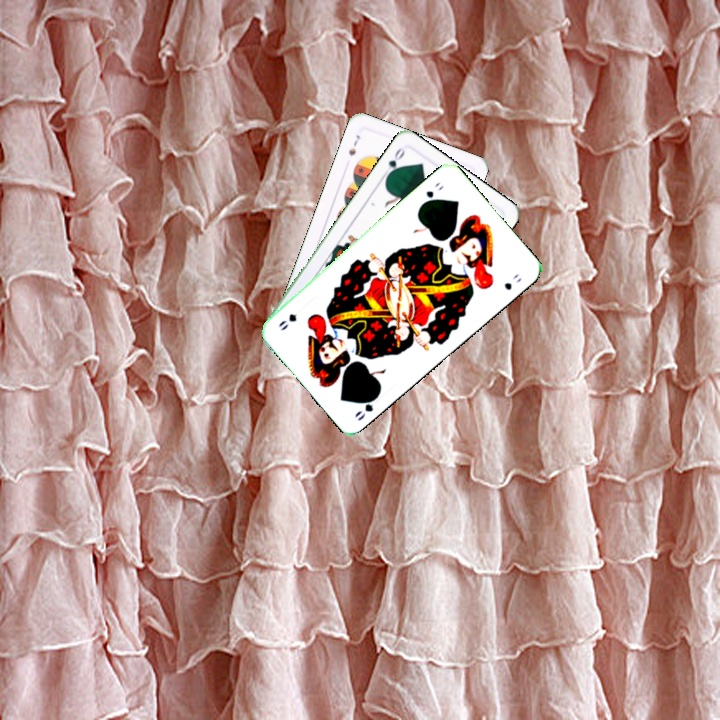GO: (350, 389, 382, 424), (379, 144, 407, 181), (417, 178, 446, 208)
S7: (344, 130, 363, 158)
